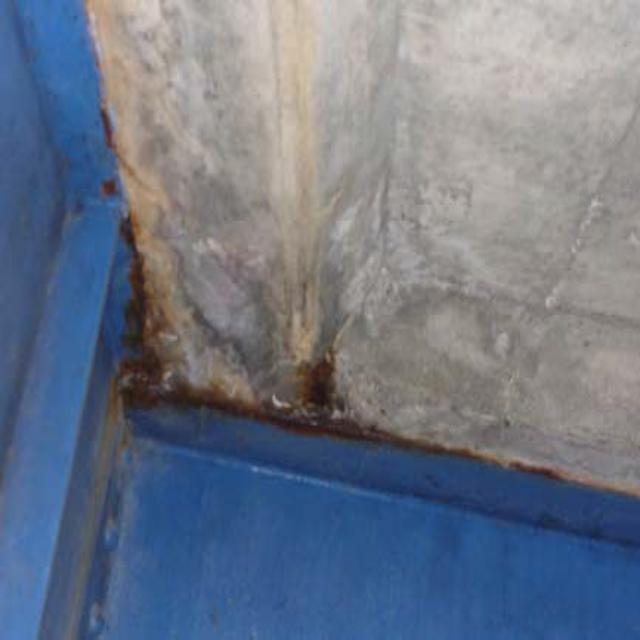corrosion: (106, 142, 401, 497)
